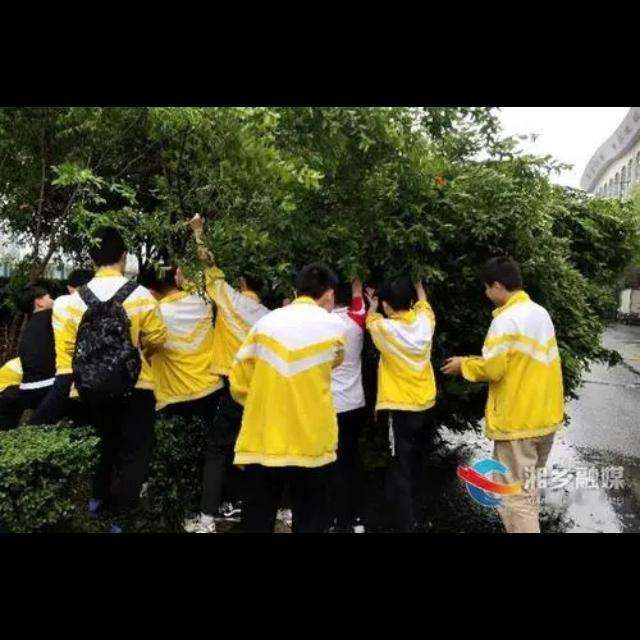fallen_tree: (75, 110, 630, 404)
